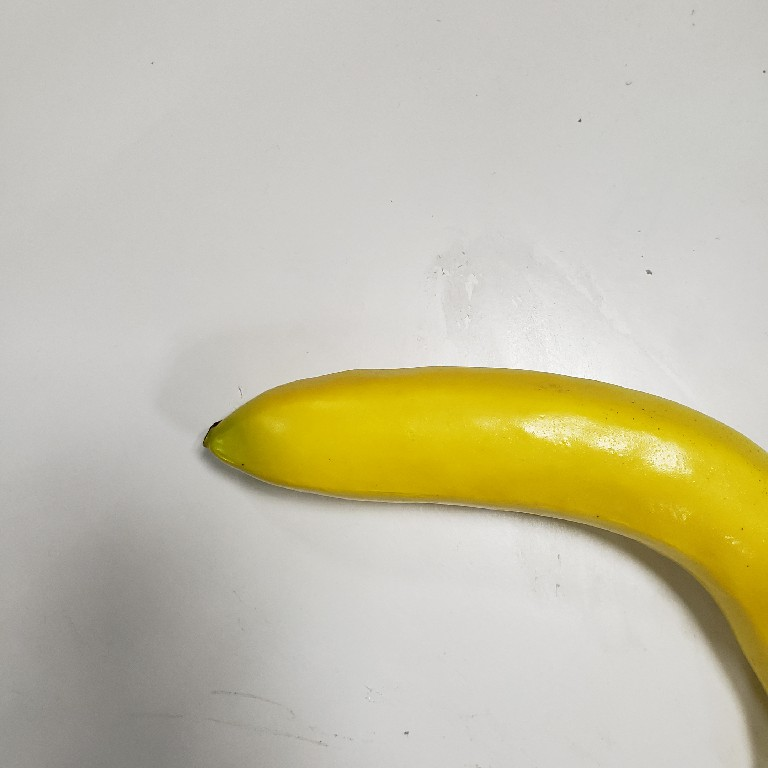fruit_banana: (179, 343, 768, 727)
